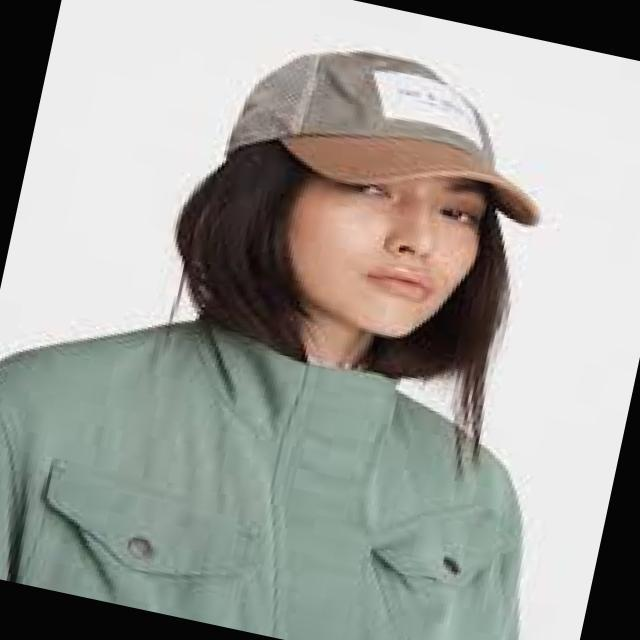cap: (196, 4, 598, 265)
